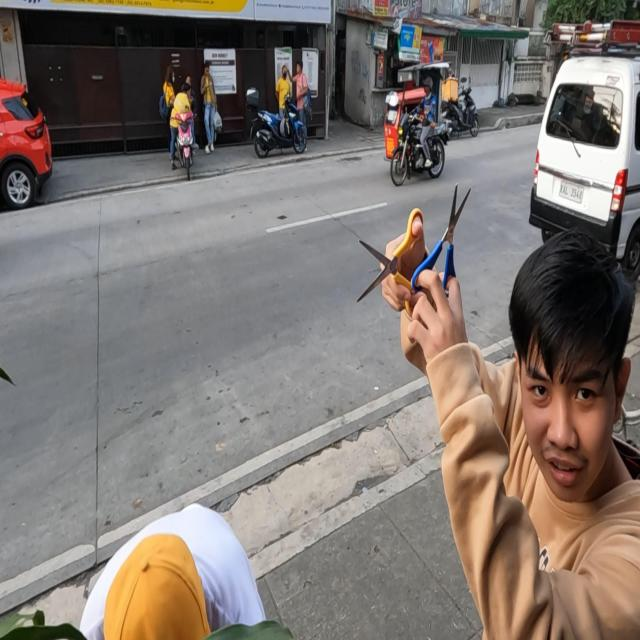scissor: (356, 206, 425, 324), (411, 180, 472, 300)
